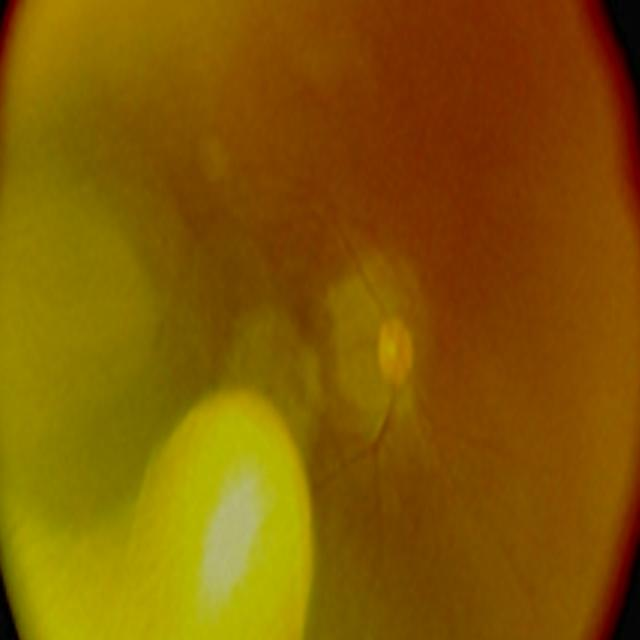optic-nerve: (345, 266, 450, 452)
